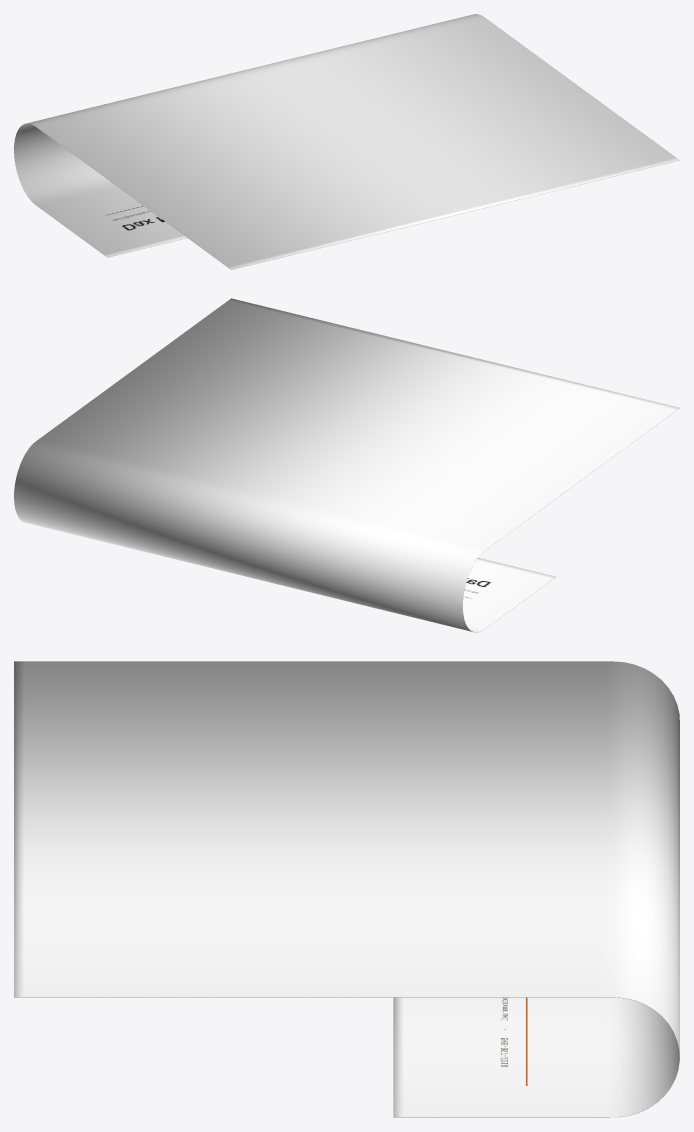
The model's file is printer-paper-feed.glb.
The picture shows the model from 3 angles, top to bottom: view 1: azimuth 30°, elevation 25°; view 2: azimuth 150°, elevation 25°; view 3: azimuth 270°, elevation 25°; orthographic projection. The views are drawn at different scales.
Visible parts, largest first — view 1: Resume_PaperFeed_Sheet_Local; view 2: Resume_PaperFeed_Sheet_Local; view 3: Resume_PaperFeed_Sheet_Local.
Boxes of the visible parts, x1,y1,x2,y2 form: Resume_PaperFeed_Sheet_Local: [14, 14, 679, 269]; Resume_PaperFeed_Sheet_Local: [14, 298, 679, 632]; Resume_PaperFeed_Sheet_Local: [14, 661, 679, 1117].
Size of the model in its own units: 0.2159 by 0.0361 by 0.181.
1 material, 1 textured.
